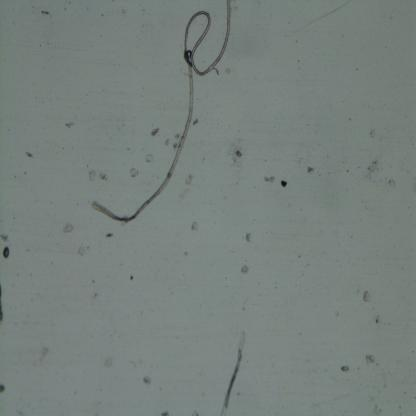Air bubble: (2, 247, 10, 260)
Background material: (364, 150, 394, 191), (179, 176, 192, 199), (99, 353, 114, 369), (76, 238, 86, 260), (231, 145, 243, 163), (62, 222, 75, 236), (0, 280, 4, 323), (148, 123, 160, 137), (262, 174, 276, 186), (362, 288, 372, 304), (366, 352, 377, 366), (87, 167, 98, 181), (129, 166, 140, 180), (279, 177, 288, 191), (340, 363, 350, 374), (190, 222, 200, 233), (240, 262, 249, 274), (25, 150, 35, 160), (144, 154, 155, 163), (38, 8, 50, 16), (374, 313, 382, 325), (104, 230, 114, 239), (65, 120, 75, 128), (99, 172, 107, 182), (0, 384, 6, 396), (144, 376, 152, 385), (164, 138, 171, 148), (245, 231, 251, 242), (127, 274, 135, 282), (0, 233, 7, 242), (193, 118, 200, 126), (308, 166, 315, 172)
Cellulose filter fibre: (225, 330, 246, 416)
Microfibre: (90, 0, 233, 223)
